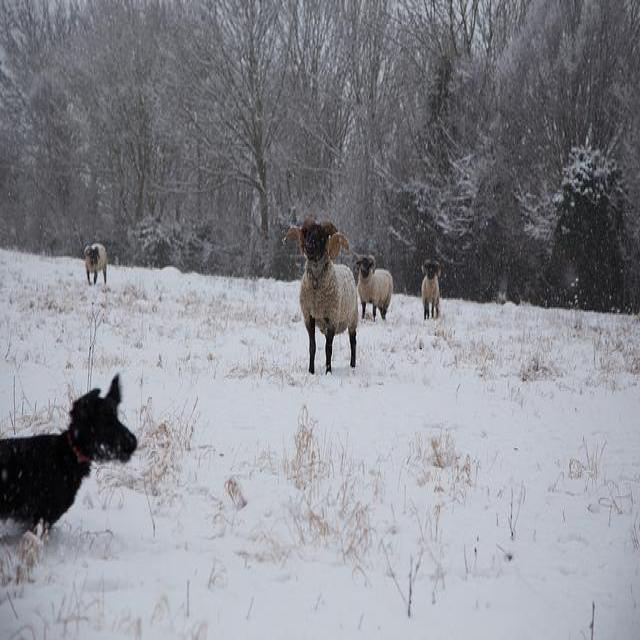Sheep: (281, 217, 360, 378), (357, 255, 391, 319)
